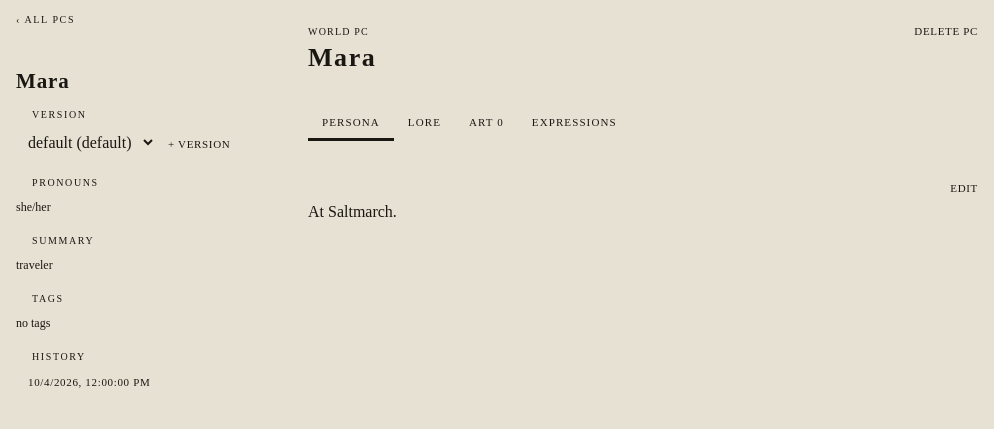
Test case: switching version drops the other version's history rows and its preview
This screenshot has width=994, height=429.
Expected: the heading "Mara" below "World PC" is shown, x1=308 y1=44 x2=376 y2=72
Click the button "10/4/2026, 12:00:00 PM" at (137,382), box x1=16 y1=370 x2=258 y2=394
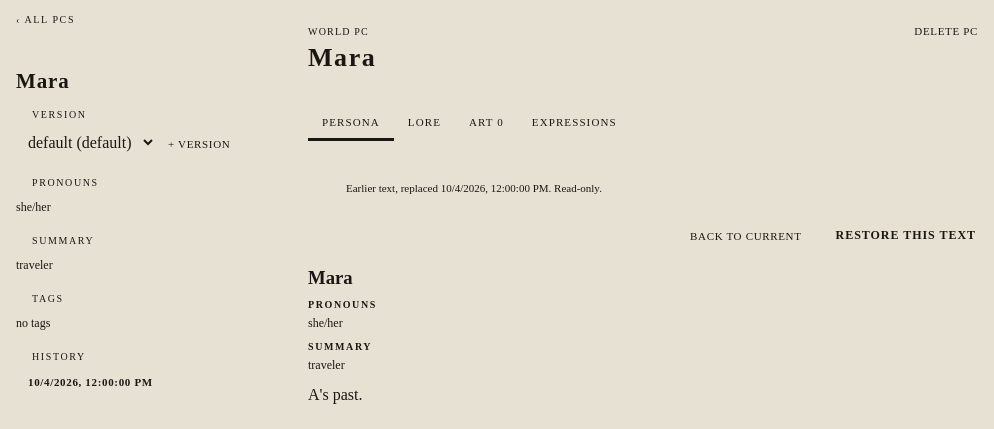
Expected: the text "A's past." is shown, x1=308 y1=386 x2=362 y2=403
Select "older" in the dropdown named "Version" at (86,143), box x1=16 y1=128 x2=156 y2=157
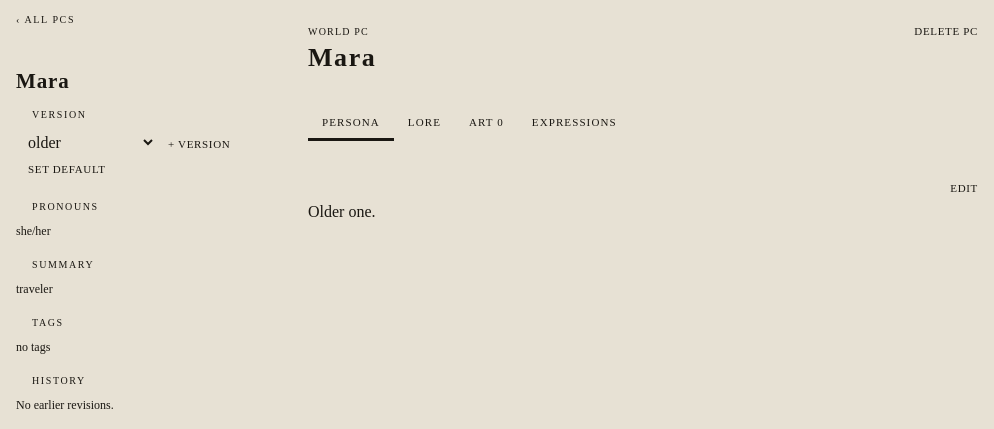
Expected: no buttons with class "history-row" are shown
Expected: the text "A's past." is gone
Expected: the button "Restore this text" is gone
